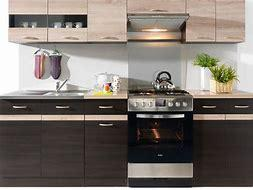cabinet_door: (85, 118, 126, 185), (42, 121, 85, 179), (0, 121, 41, 178), (193, 121, 227, 181), (48, 0, 88, 42), (8, 0, 47, 42), (227, 120, 253, 181), (88, 0, 127, 40), (187, 0, 217, 42), (215, 1, 244, 43), (196, 101, 253, 115), (127, 0, 186, 13), (0, 100, 41, 115), (43, 101, 85, 115), (84, 101, 125, 114)
handle: (133, 111, 187, 119), (149, 6, 168, 13), (98, 121, 114, 129), (232, 103, 250, 110), (194, 33, 210, 40), (99, 35, 121, 40), (18, 34, 35, 40), (98, 104, 114, 110), (55, 104, 71, 110), (201, 104, 217, 110), (11, 105, 29, 110), (57, 35, 75, 40), (221, 35, 239, 40)
